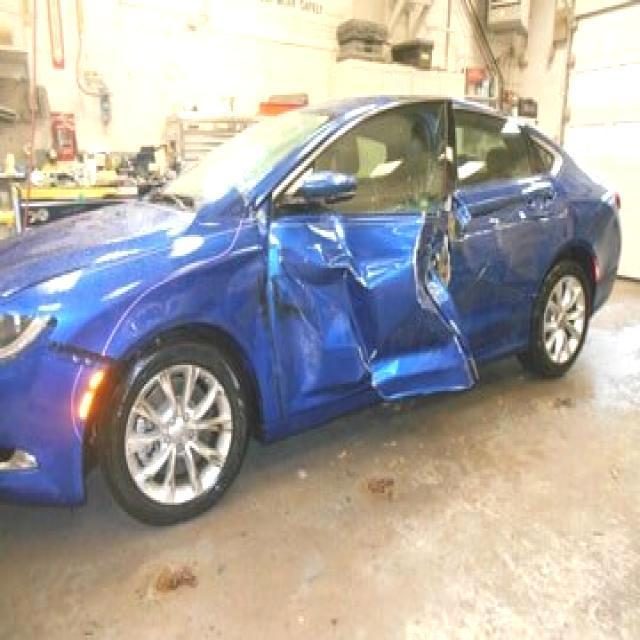minor: (55, 348, 113, 371)
moderate: (245, 214, 476, 427)
